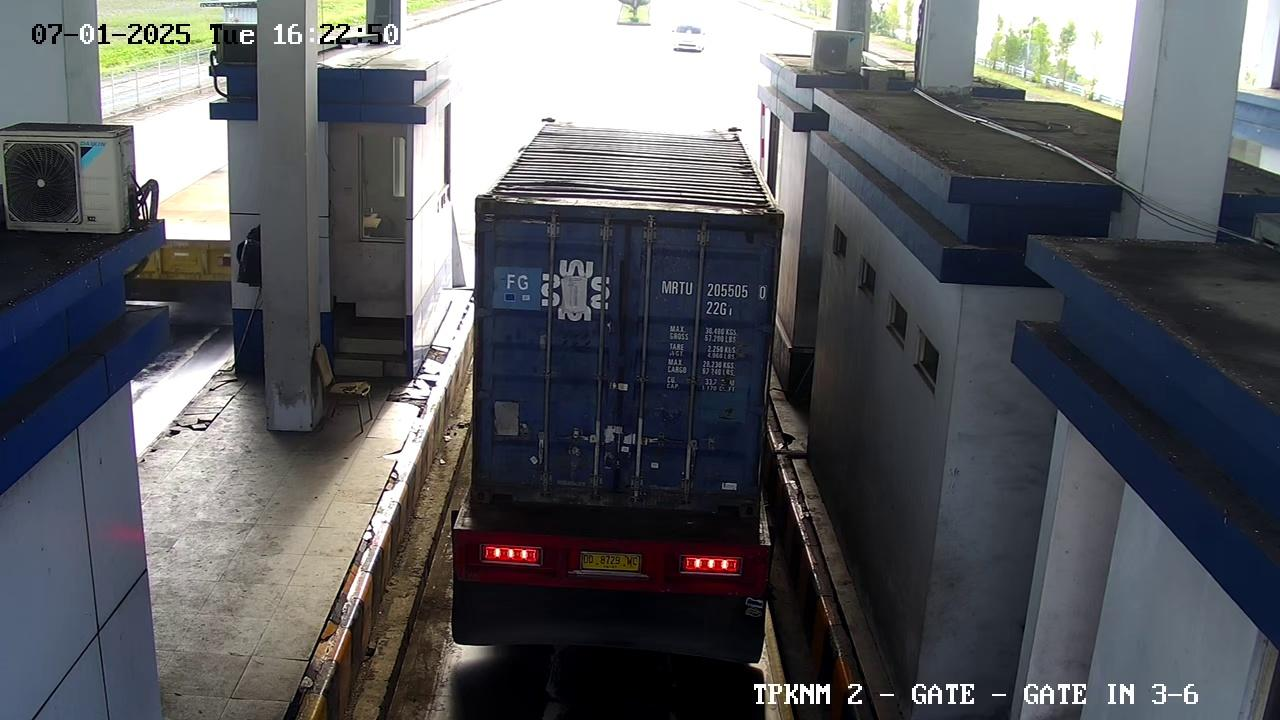Container_ID: (657, 278, 790, 303)
plate_number: (570, 541, 659, 584)
